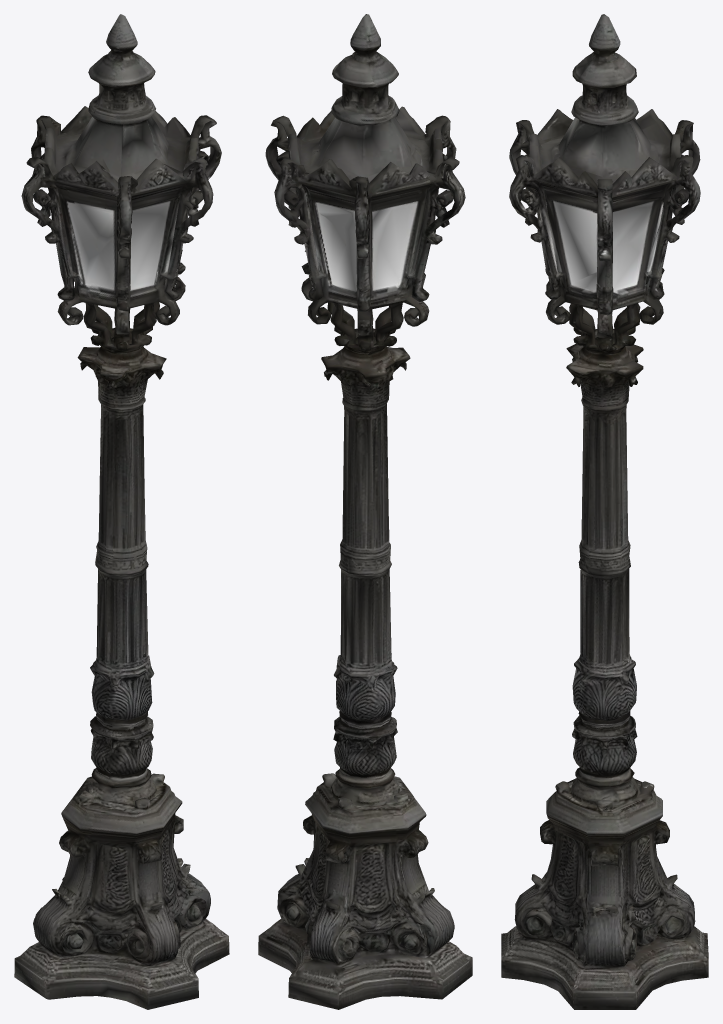
The model's file is street_lamp.glb.
3 renders of one model, left to right at view 1: azimuth 30°, elevation 25°; view 2: azimuth 150°, elevation 25°; view 3: azimuth 270°, elevation 25°, orthographic.
Visible parts, largest first — view 1: node_0; view 2: node_0; view 3: node_0.
Boxes of the visible parts, box(x1,y1,x2,y2) form: node_0: box(14, 14, 229, 1009); node_0: box(258, 14, 472, 1009); node_0: box(501, 14, 708, 1009).
Bounding box in the file's own units: 0.2533 × 1.17 × 0.2318.
1 material, 1 textured.
